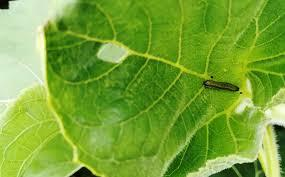fallarmy_worm: (202, 77, 245, 95)
